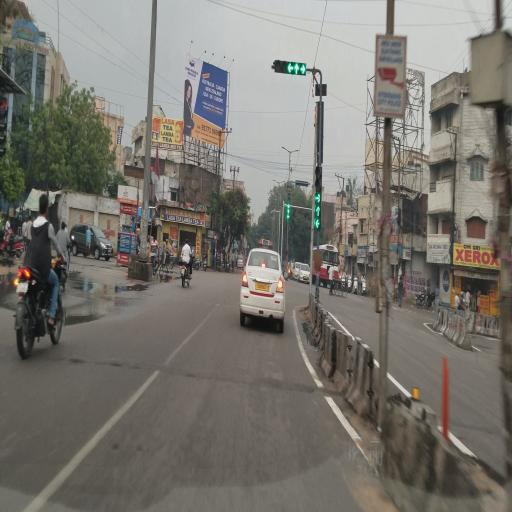street_light_0: (268, 175, 280, 191), (278, 138, 288, 156), (290, 141, 302, 155), (278, 175, 289, 189)
